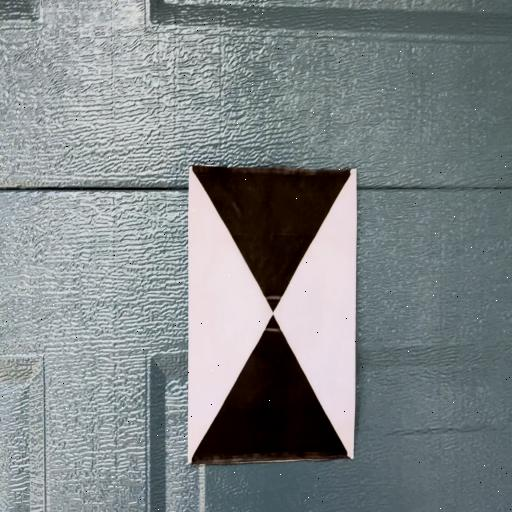target: (189, 168, 355, 458)
